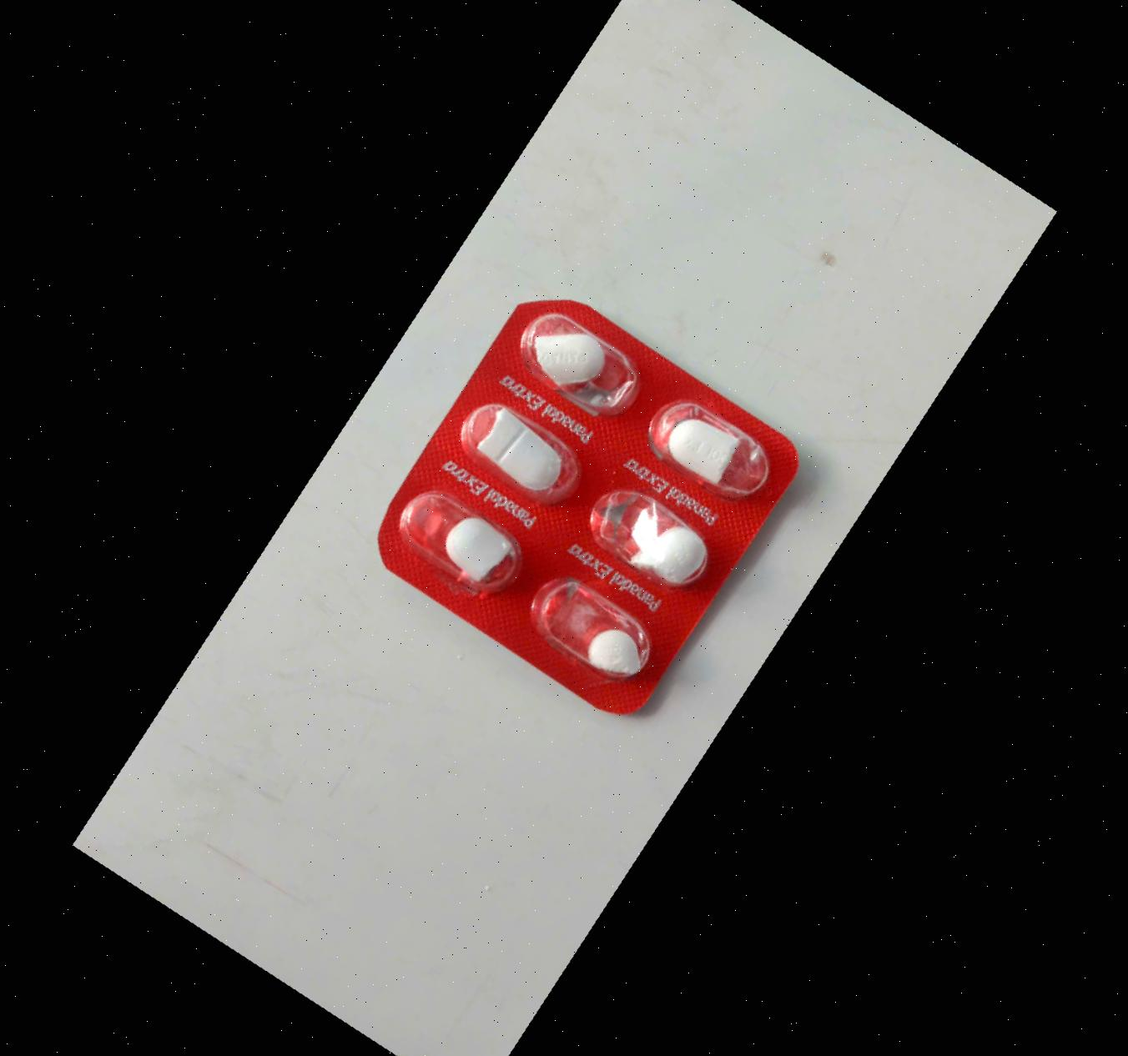Partial: (515, 558, 667, 696), (637, 385, 789, 522), (573, 464, 725, 601), (450, 372, 602, 509), (393, 467, 544, 604), (510, 287, 661, 424)
